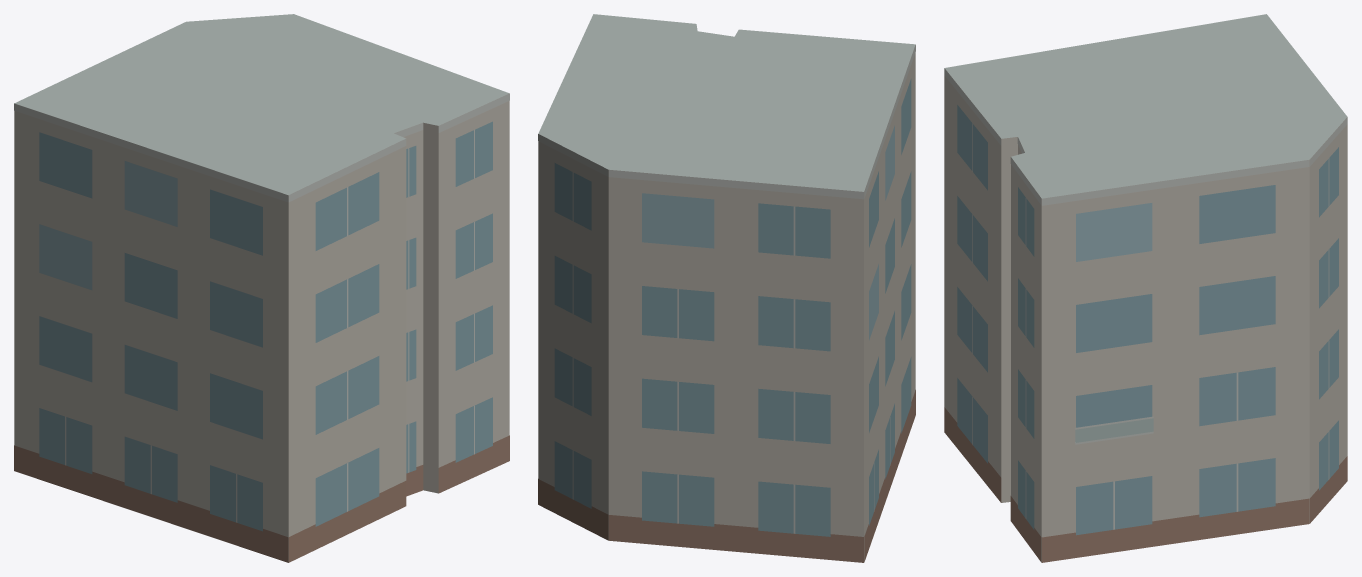
File: survey-upis-32499762.glb
The picture shows the model from 3 angles, left to right: view 1: azimuth 30°, elevation 25°; view 2: azimuth 150°, elevation 25°; view 3: azimuth 270°, elevation 25°; orthographic projection.
Visible parts, largest first — view 1: survey-upis-32499762.tmp; view 2: survey-upis-32499762.tmp; view 3: survey-upis-32499762.tmp.
Part boxes in pixels (<box>): survey-upis-32499762.tmp: <box>14,14,509,562</box>; survey-upis-32499762.tmp: <box>538,14,915,562</box>; survey-upis-32499762.tmp: <box>944,14,1347,562</box>.
Bounding box in the file's own units: 13.38 × 12.3 × 12.35.
